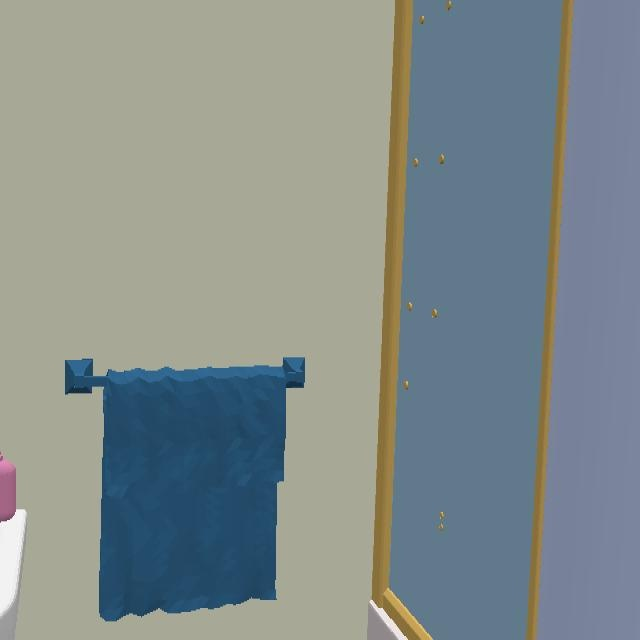shower: (372, 0, 640, 638)
